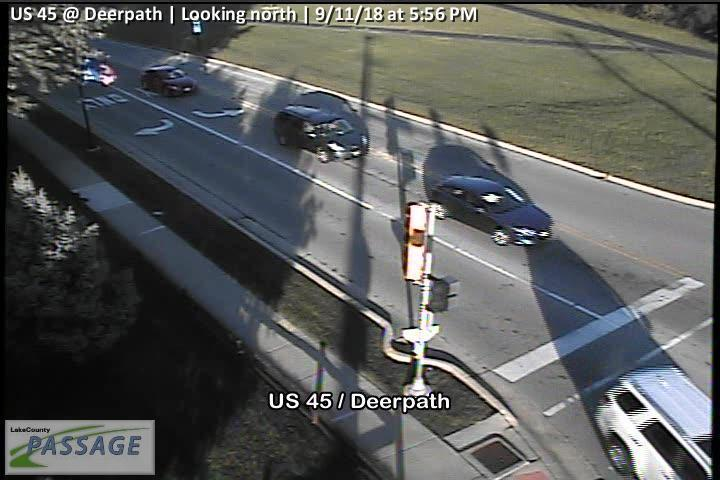SUV: (593, 362, 718, 480), (271, 103, 368, 164)
Sedan: (429, 173, 552, 248), (138, 64, 196, 98)
